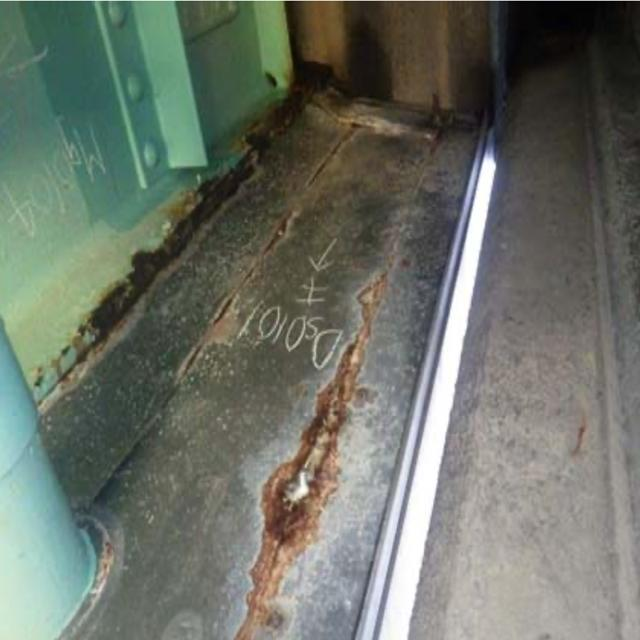corrosion: (57, 66, 337, 347), (224, 407, 393, 640)
